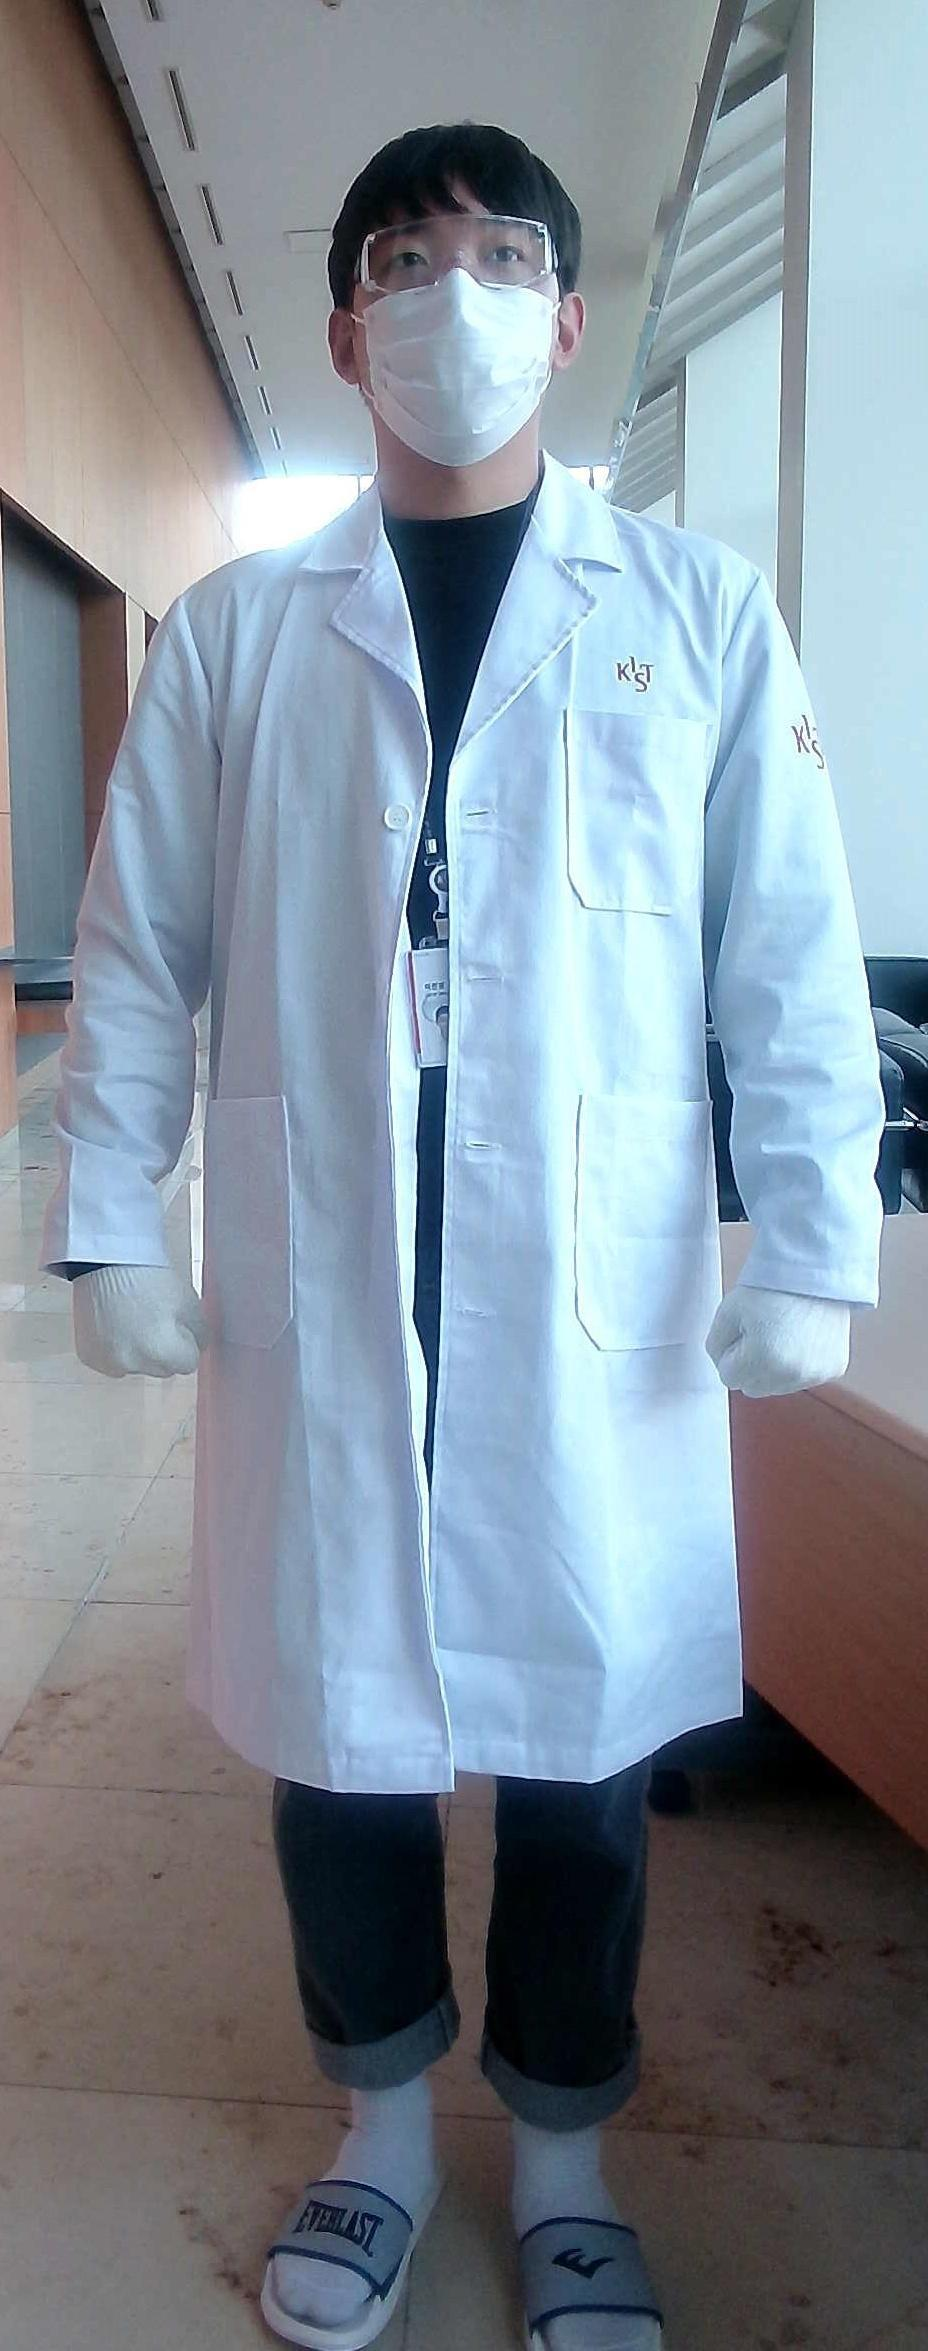lab_coat: (186, 580, 744, 1753)
